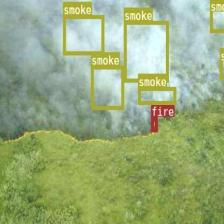fire: (151, 116, 157, 131)
smoke: (124, 20, 168, 82), (62, 15, 104, 55), (90, 64, 124, 108), (138, 86, 176, 104), (209, 0, 224, 31), (220, 47, 224, 79)
